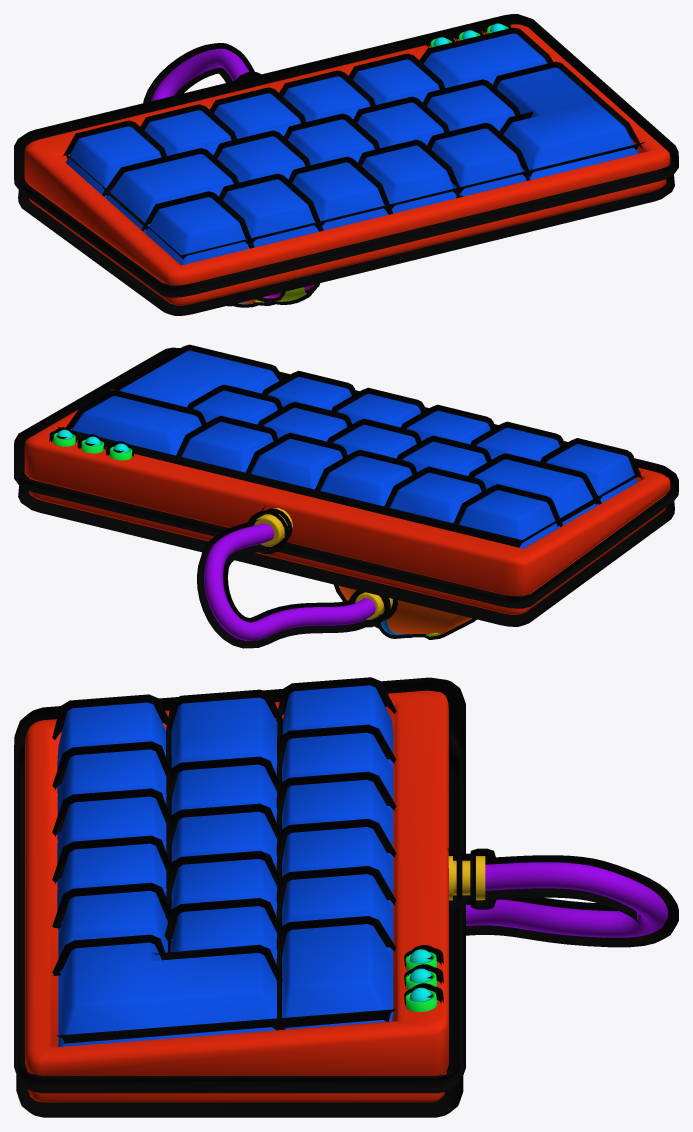
File: keyboard.gltf
3 views of the same model, one above another, from view 1: azimuth 30°, elevation 25°; view 2: azimuth 150°, elevation 25°; view 3: azimuth 270°, elevation 25° (orthographic). The views are drawn at different scales.
Parts seen in each view (by area): view 1: board, outline; view 2: board, outline; view 3: board, outline.
Boxes of the visible parts, bbox=[...] form: board: bbox=[24, 23, 670, 305]; outline: bbox=[14, 14, 678, 315]; board: bbox=[24, 350, 670, 640]; outline: bbox=[14, 344, 678, 648]; board: bbox=[25, 685, 667, 1102]; outline: bbox=[14, 677, 678, 1117].
Size of the model in its own units: 14.98 by 4.87 by 11.93.
